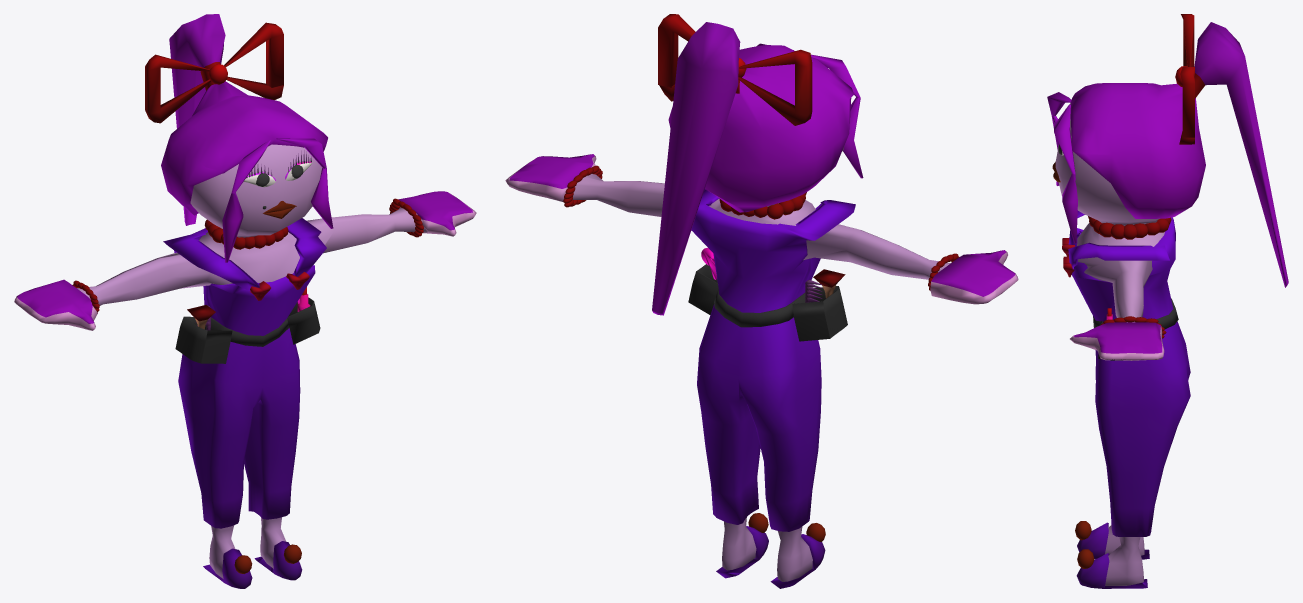
Rendered from karakter 2 kadın.fbx.
The picture shows the model from 3 angles, left to right: view 1: azimuth 30°, elevation 25°; view 2: azimuth 150°, elevation 25°; view 3: azimuth 270°, elevation 25°; orthographic projection. The views are drawn at different scales.
Visible parts, largest first — view 1: İkosfer.024; view 2: İkosfer.024; view 3: İkosfer.024.
Part boxes in pixels (x1,y1,x2,y2): İkosfer.024: (14,14,476,588); İkosfer.024: (505,14,1018,588); İkosfer.024: (1047,14,1288,588).
Bounding box in the file's own units: 171 × 197 × 78.44.
1 material, 1 textured.
